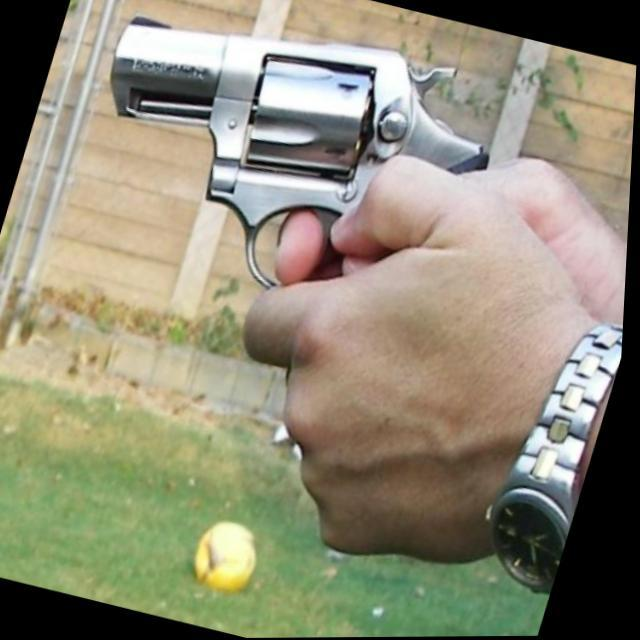weapon: (48, 0, 533, 359)
